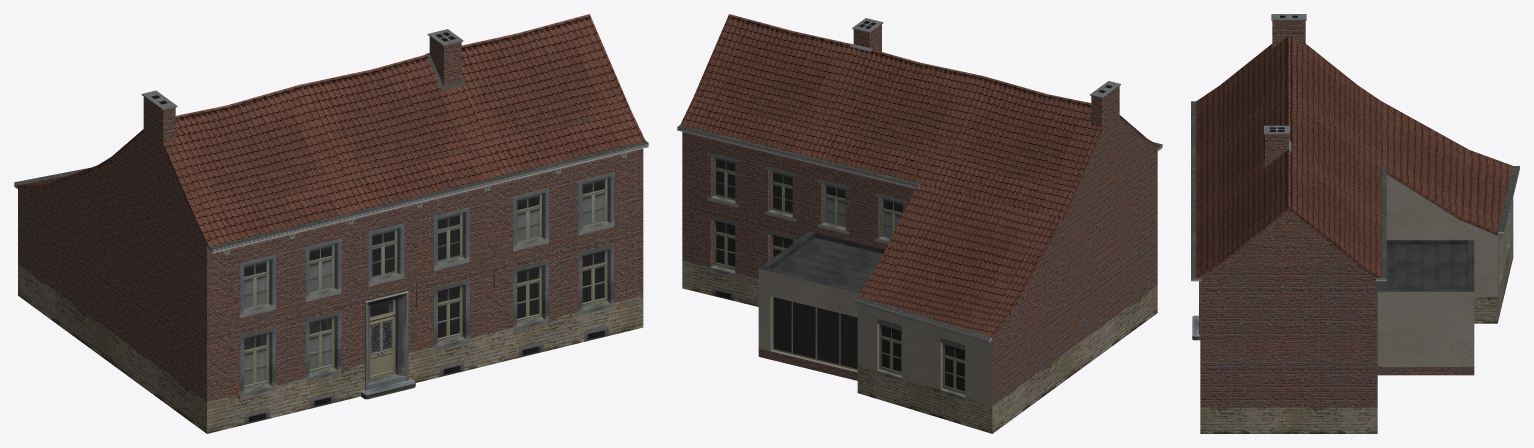
The model's file is nivelles_house_7_belgium.glb.
3 renders of one model, left to right at view 1: azimuth 30°, elevation 25°; view 2: azimuth 150°, elevation 25°; view 3: azimuth 270°, elevation 25°, orthographic. The views are drawn at different scales.
Visible parts, largest first — view 1: building; view 2: building; view 3: building.
Boxes of the visible parts, box(x1,y1,x2,y2) form: building: box(14, 14, 648, 433); building: box(677, 14, 1162, 433); building: box(1191, 14, 1519, 433).
Bounding box in the file's own units: 16.04 × 10.29 × 12.6.
1 material, 1 textured.
